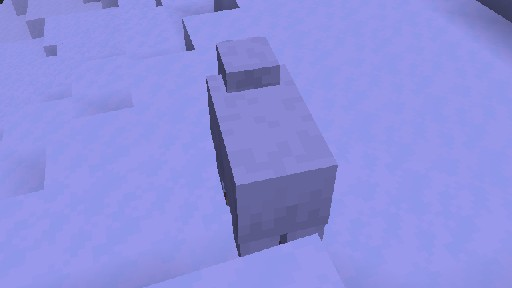sheep: (205, 35, 337, 286)
